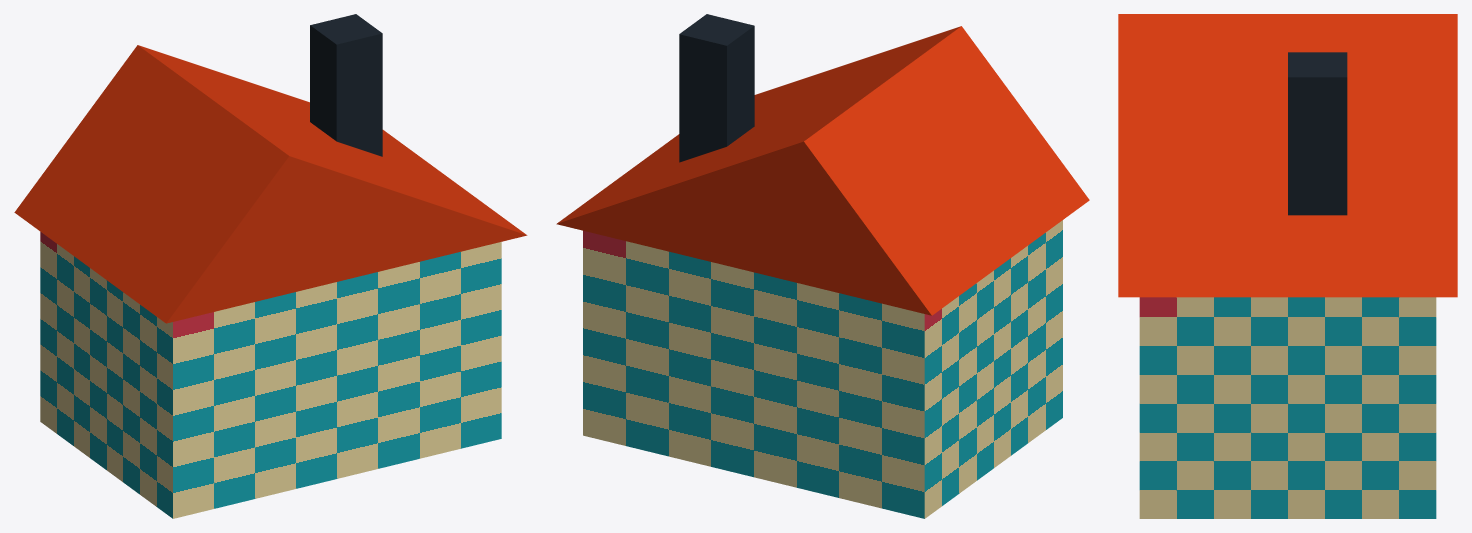
File: house.obj
3 views of the same model, side by side, from view 1: azimuth 30°, elevation 25°; view 2: azimuth 150°, elevation 25°; view 3: azimuth 270°, elevation 25° (orthographic). The views are drawn at different scales.
Visible parts, largest first — view 1: Walls, Roof, Chimney; view 2: Walls, Roof, Chimney; view 3: Roof, Walls, Chimney.
Part boxes in pixels (x1,y1,x2,y2): Walls: [40, 232, 501, 518]; Roof: [14, 45, 527, 323]; Chimney: [310, 14, 382, 156]; Walls: [583, 220, 1062, 518]; Roof: [556, 26, 1089, 315]; Chimney: [679, 14, 754, 162]; Roof: [1118, 14, 1457, 297]; Walls: [1139, 297, 1436, 518]; Chimney: [1288, 52, 1347, 215].
Bounding box in the file's own units: 2.2 × 2.15 × 1.6.
Materials: 3 (1 with a texture image).
